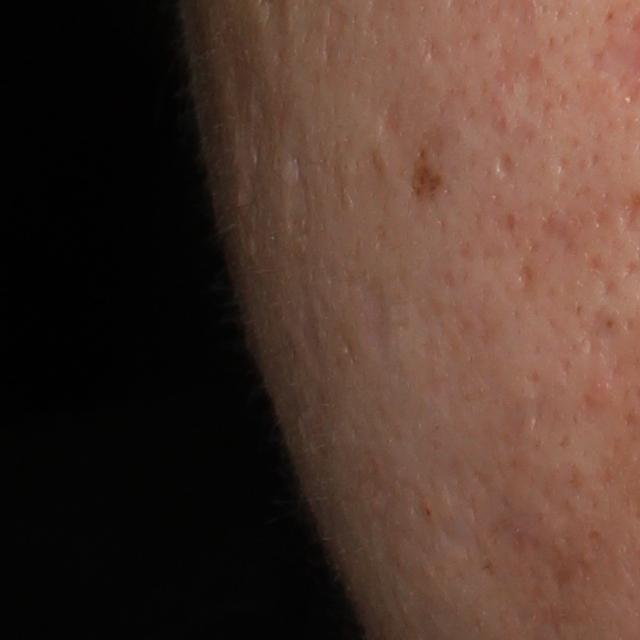atrophic_scar: (491, 27, 551, 99), (358, 275, 396, 364), (522, 368, 553, 437), (378, 102, 406, 138), (517, 252, 538, 292), (493, 147, 514, 180), (420, 30, 442, 61)
melasma: (408, 155, 446, 202)
